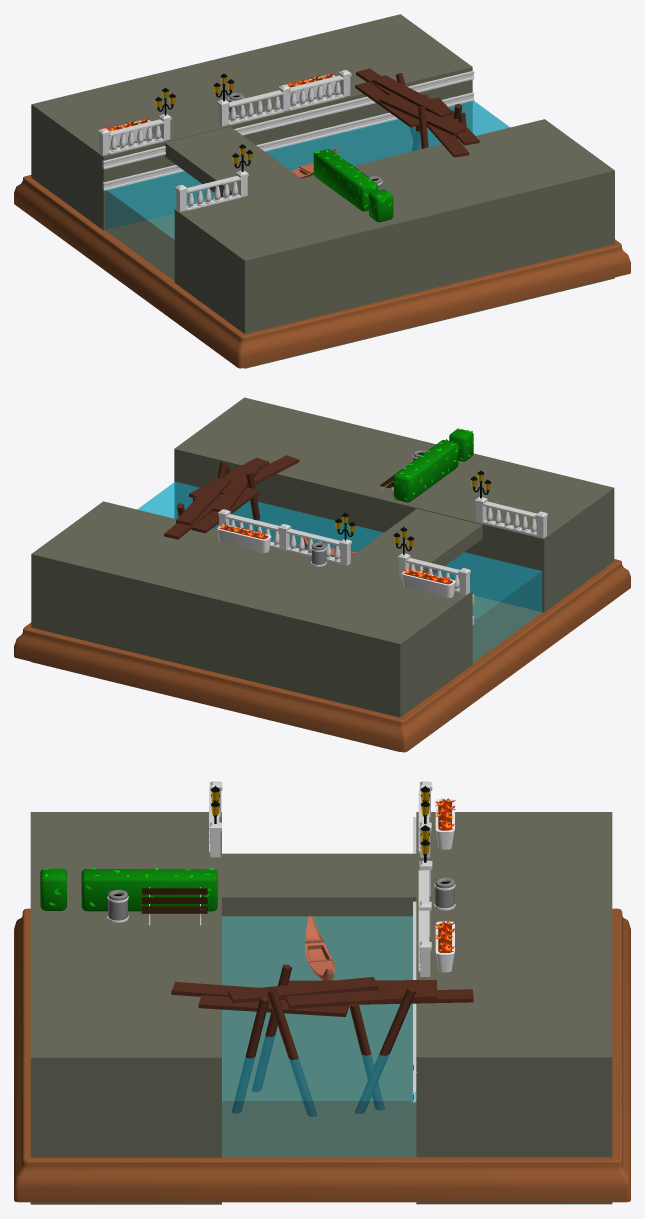
Rendered from level5.FBX.
The picture shows the model from 3 angles, top to bottom: view 1: azimuth 30°, elevation 25°; view 2: azimuth 150°, elevation 25°; view 3: azimuth 270°, elevation 25°; orthographic projection. The views are drawn at different scales.
Visible parts, largest first — view 1: Box078, Container001, Box079, Box081, Box126, Box086, Box084, Box127, Box080, Box085; view 2: Box079, Box078, Container001, Box081, Box126, Box086, Box084, Box121, Box122, Box080, Box085, Box127; view 3: Container001, Box079, Box078, Box081, Box126, Box086, Box084, Cylinder095, Cylinder094, Box083, Cylinder096, Plane436 (+6 smaller).
Part boxes in pixels (bbox=[...]): Box078: bbox=[174, 119, 614, 368]; Container001: bbox=[14, 70, 630, 368]; Box079: bbox=[31, 14, 472, 230]; Box081: bbox=[165, 126, 300, 197]; Box126: bbox=[313, 149, 378, 211]; Box086: bbox=[372, 75, 453, 117]; Box084: bbox=[379, 94, 465, 135]; Box127: bbox=[369, 189, 393, 222]; Box080: bbox=[355, 82, 419, 127]; Box085: bbox=[426, 123, 469, 157]; Box079: bbox=[31, 501, 472, 751]; Box078: bbox=[174, 397, 614, 612]; Container001: bbox=[14, 481, 630, 752]; Box081: bbox=[350, 509, 482, 574]; Box126: bbox=[393, 440, 458, 502]; Box086: bbox=[176, 477, 230, 525]; Box084: bbox=[212, 464, 260, 511]; Box121: bbox=[217, 524, 271, 552]; Box122: bbox=[401, 569, 455, 597]; Box080: bbox=[191, 487, 259, 533]; Box085: bbox=[220, 455, 299, 494]; Box127: bbox=[449, 429, 473, 461]; Container001: bbox=[14, 781, 630, 1202]; Box079: bbox=[416, 812, 612, 1204]; Box078: bbox=[30, 812, 221, 1204]; Box081: bbox=[222, 853, 416, 916]; Box126: bbox=[81, 869, 217, 911]; Box086: bbox=[286, 987, 436, 1009]; Box084: bbox=[228, 977, 378, 1003]; Cylinder095: bbox=[266, 988, 316, 1116]; Cylinder094: bbox=[355, 987, 415, 1113]; Box083: bbox=[198, 995, 348, 1016]; Cylinder096: bbox=[232, 997, 269, 1113]; Plane436: bbox=[305, 916, 334, 980].
Bounding box in the file's own units: 336 × 131 × 336.
